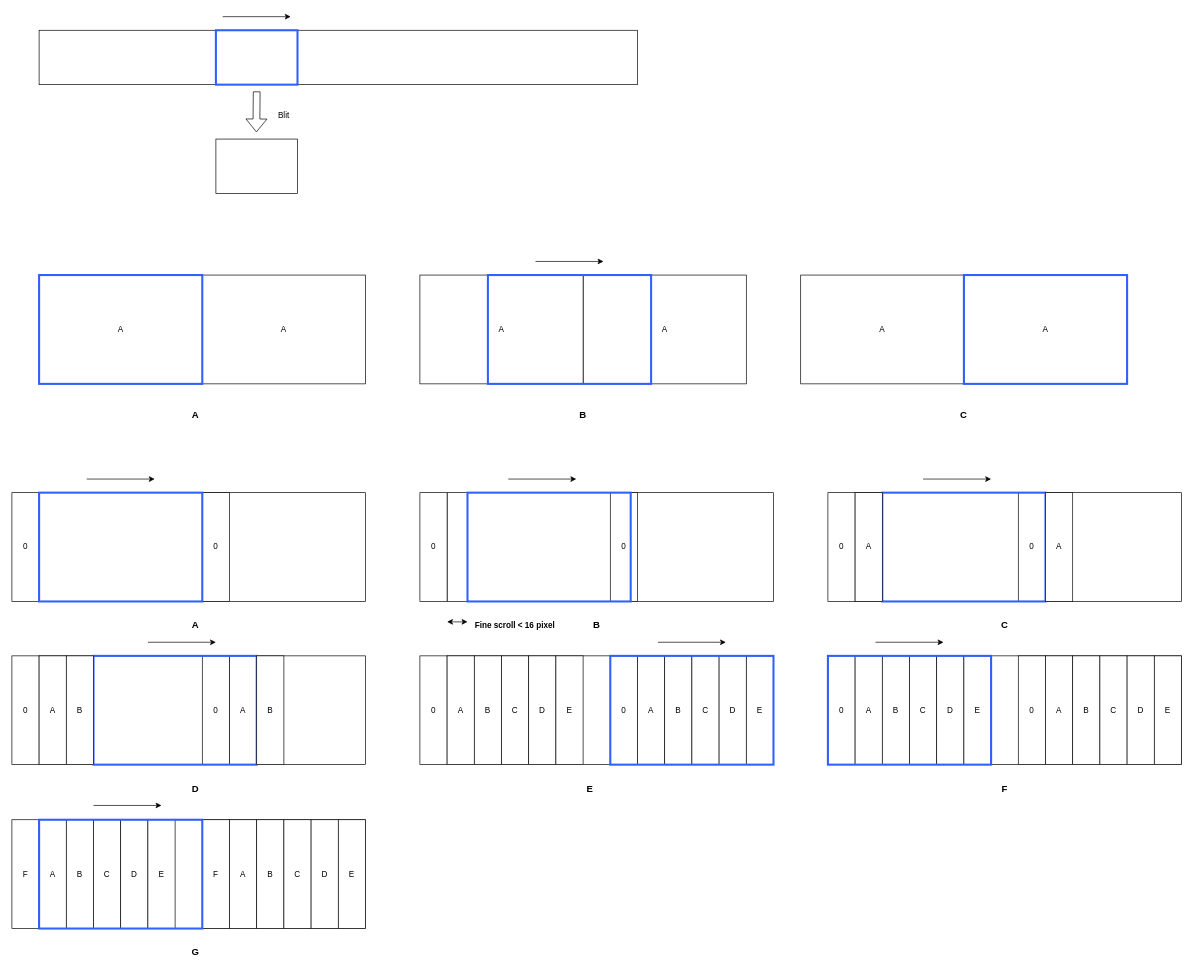
Image size: 1193x974. Some labels were removed from this diagram. Each missing label, with the box of its shape:
Level: (38, 30, 638, 85)
Screen: (215, 138, 298, 193)
